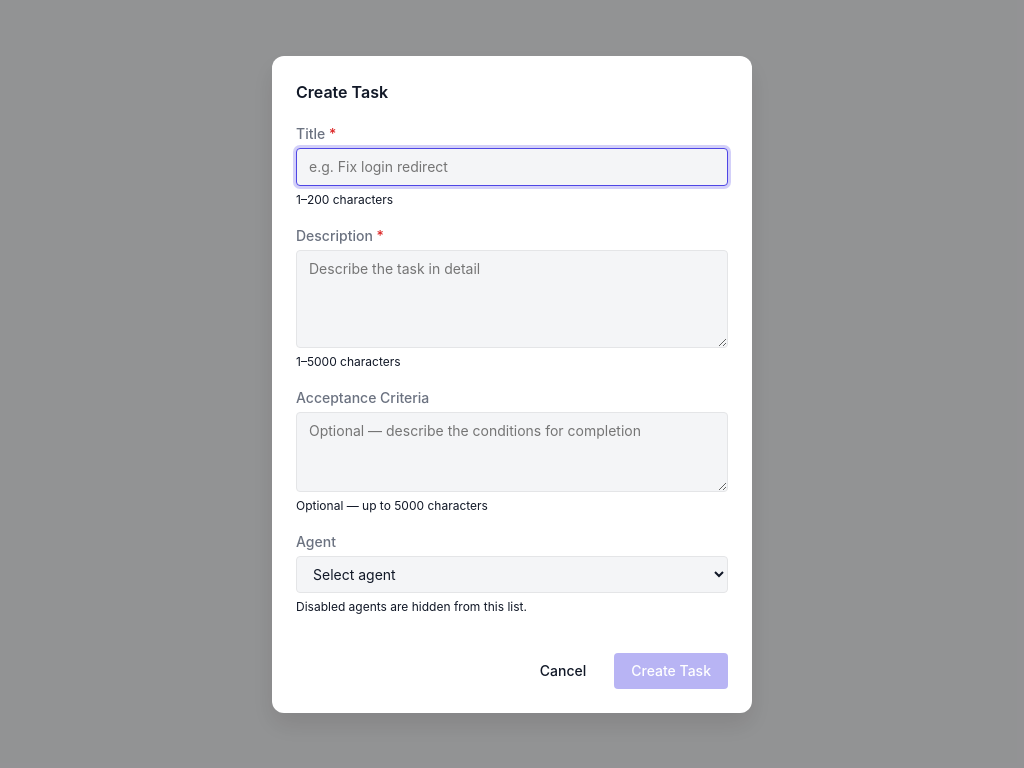
Test case: CreateTaskModal › blur empty Description field → inline error shown
Click the text box labelled "Description": (512, 298) [296, 250, 728, 348]
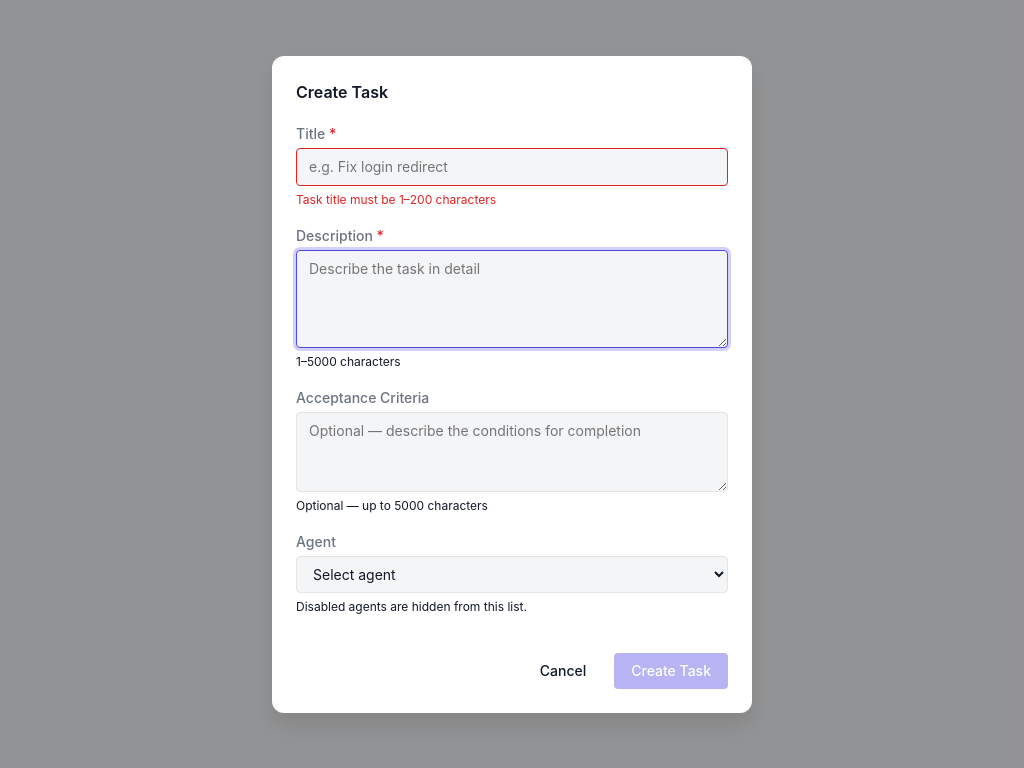
Press Tab
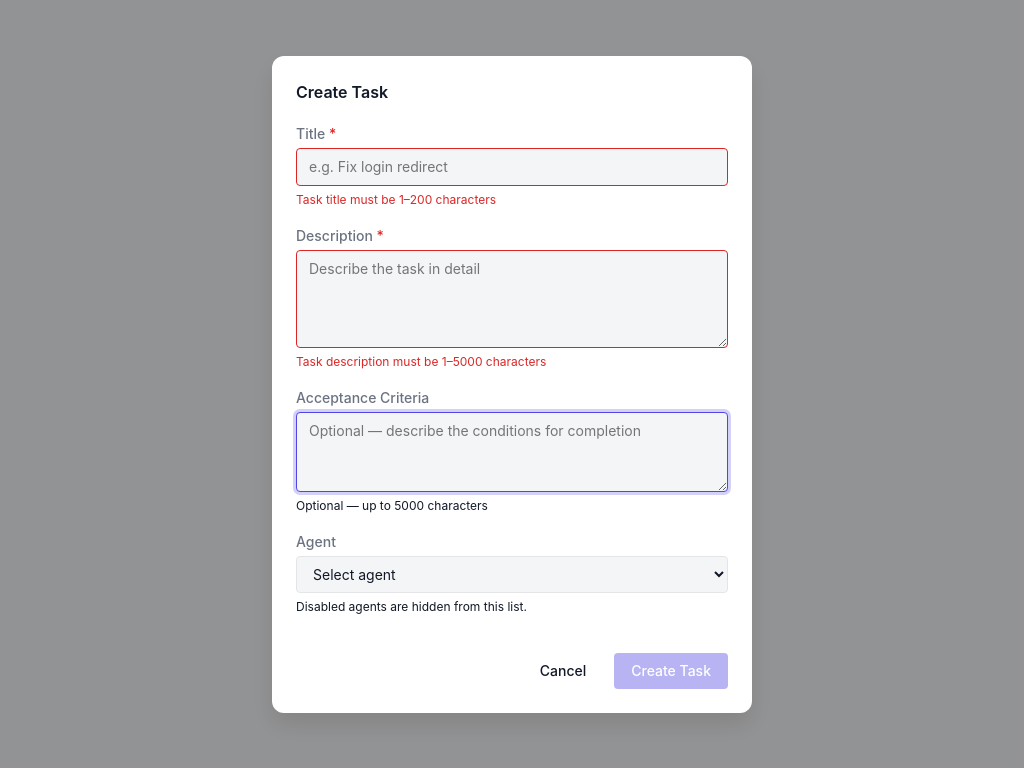
Check: the text "Task description must be 1–5000 characters" is shown, box [296, 354, 546, 368]
